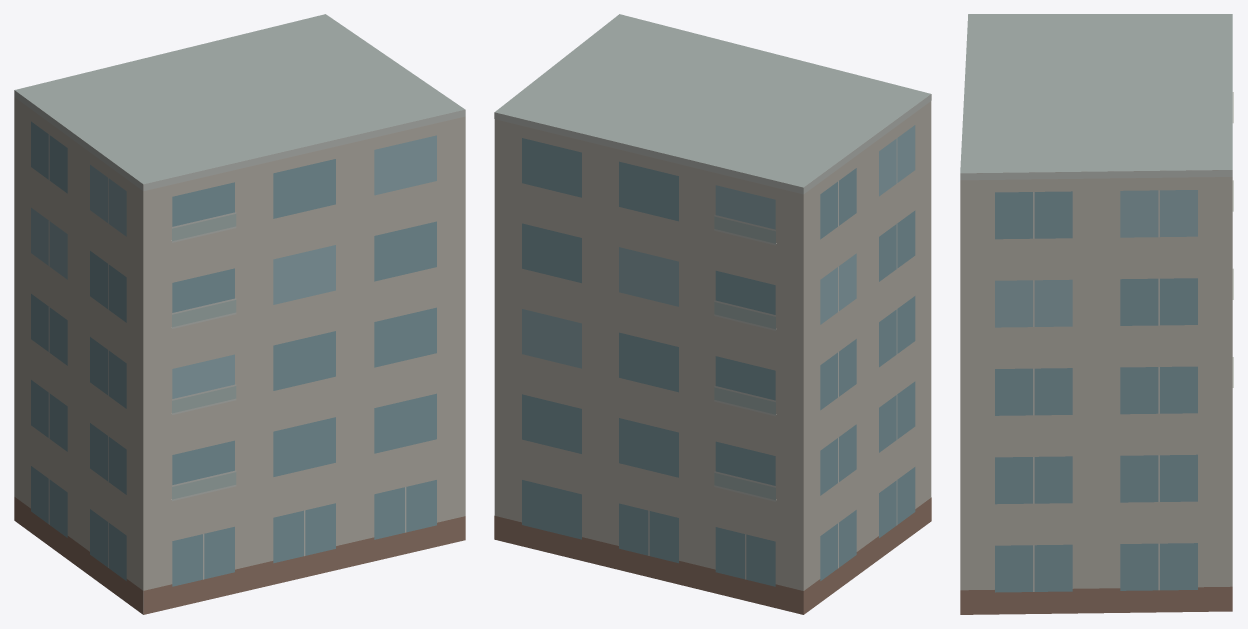
The model's file is survey-upis-32487433.glb.
3 views of the same model, side by side, from view 1: azimuth 30°, elevation 25°; view 2: azimuth 150°, elevation 25°; view 3: azimuth 270°, elevation 25° (orthographic). The views are drawn at different scales.
Visible parts, largest first — view 1: survey-upis-32487433.tmp; view 2: survey-upis-32487433.tmp; view 3: survey-upis-32487433.tmp.
Part boxes in pixels (x1,y1,x2,y2): survey-upis-32487433.tmp: [14, 14, 465, 614]; survey-upis-32487433.tmp: [494, 14, 931, 614]; survey-upis-32487433.tmp: [960, 14, 1233, 614].
Bounding box in the file's own units: 11.81 × 15.25 × 8.58.
